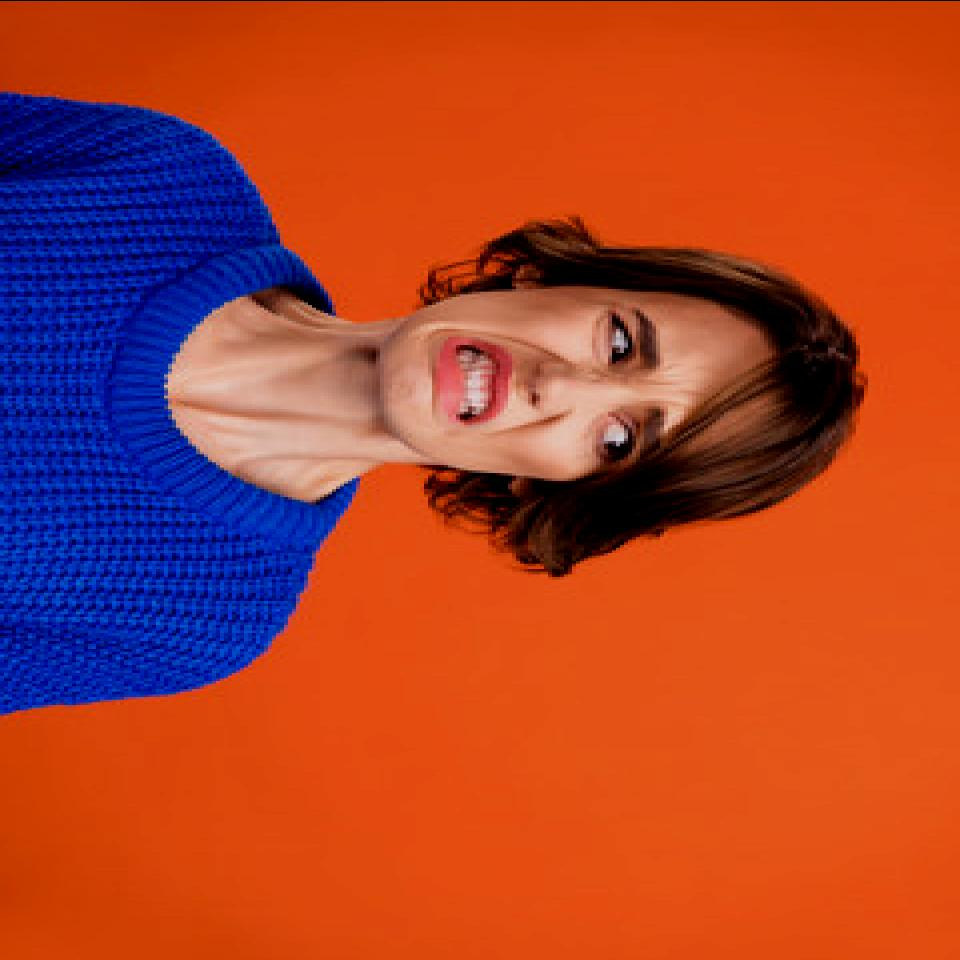Disgust: (377, 288, 769, 493)
